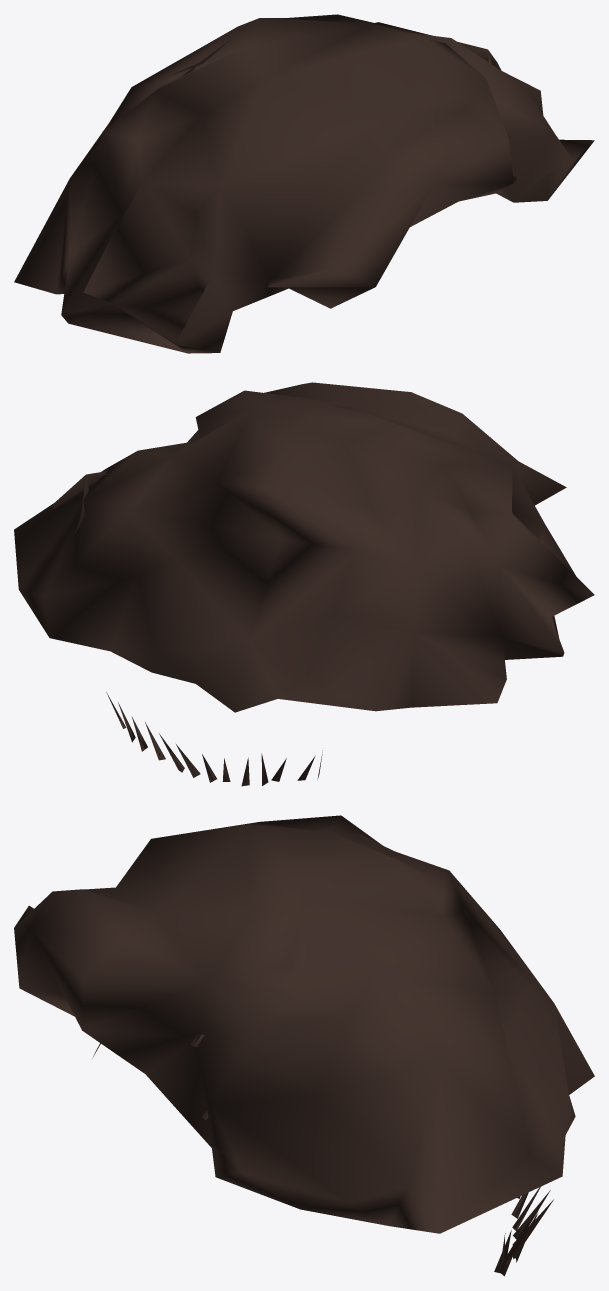
The model's file is waves.glb.
3 views of the same model, one above another, from view 1: azimuth 30°, elevation 25°; view 2: azimuth 150°, elevation 25°; view 3: azimuth 270°, elevation 25° (orthographic). The views are drawn at different scales.
Visible parts, largest first — view 1: Hair; view 2: Hair, HairPulledRootStrands; view 3: Hair, HairPulledRootStrands.
Boxes of the visible parts, box(x1,y1,x2,y2) form: Hair: box(14, 14, 594, 353); Hair: box(14, 382, 594, 712); HairPulledRootStrands: box(106, 692, 322, 786); Hair: box(14, 815, 594, 1233); HairPulledRootStrands: box(190, 1034, 553, 1276).
Size of the model in its own units: 0.6247 by 0.3541 by 0.4969.
